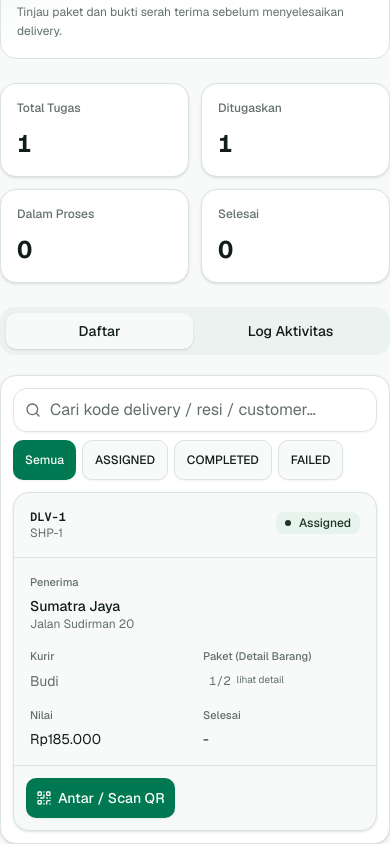
Test: opens delivery package details from the responsive task card
(page scrolled)
Expected: the text "Jalan Sudirman 20" is shown, [30,616,134,632]
Click the button with aria-label "Lihat detail barang DLV-1" at (246, 680), box [203,670,290,690]
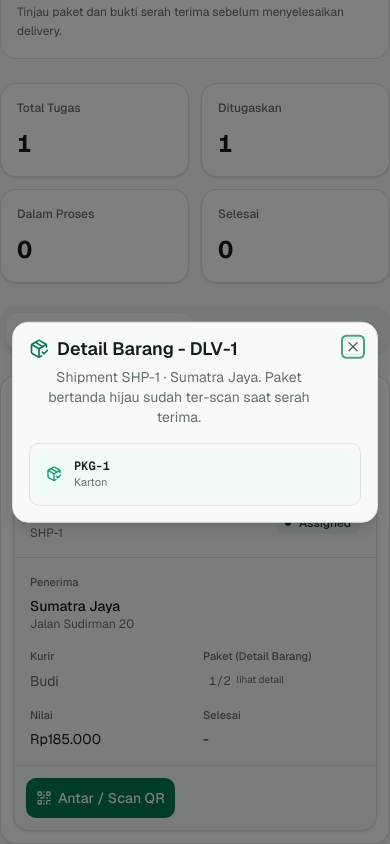
Expected: the dialog shows "PKG-1", [74,458,110,474]
Expected: the dialog shows "Karton", [74,475,107,489]
